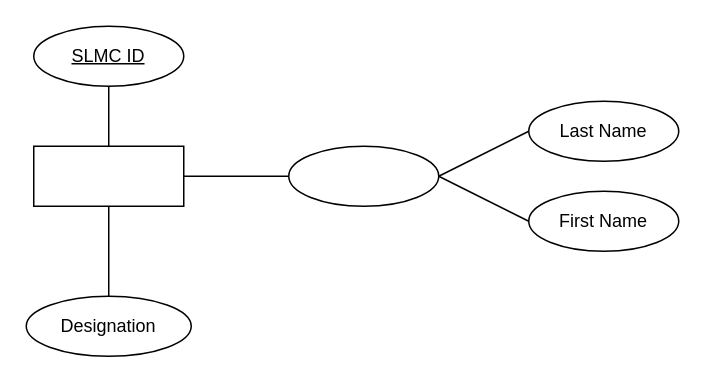
Some shapes in this 705 by 383 pixel diagram are drawn without their labels. Each missing label, with the centre of its shape:
Doctor: pixel 108 175
Name: pixel 363 175
